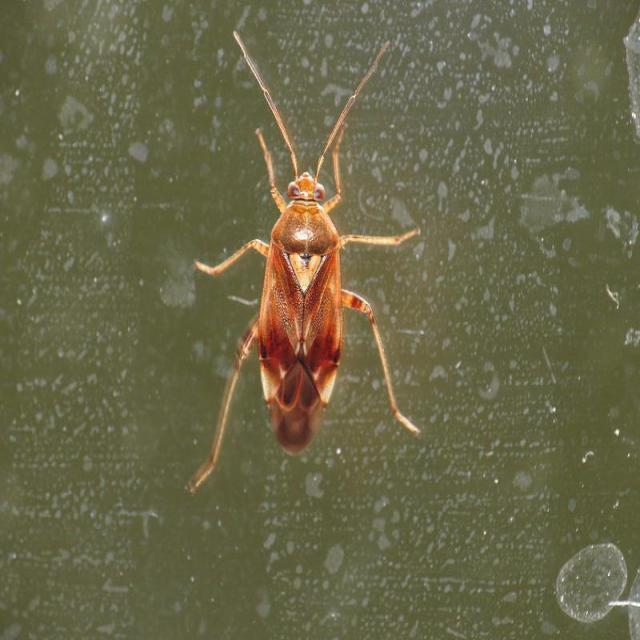Miridae-Adult-: (177, 9, 437, 493)
